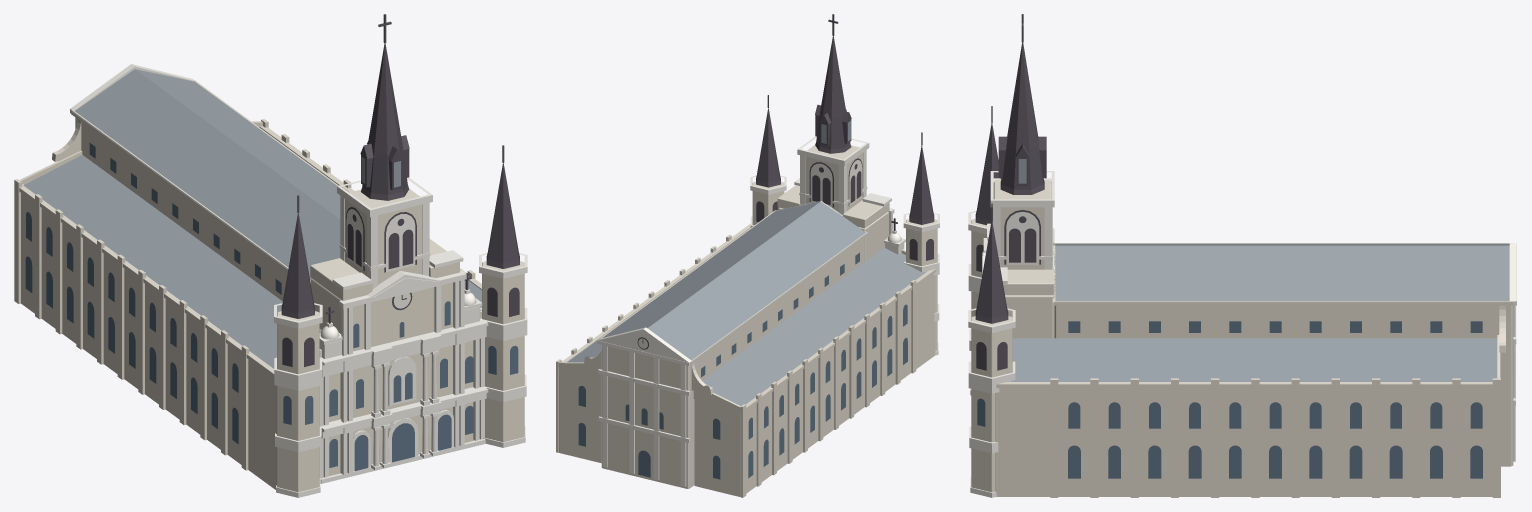
The model's file is nola-st-louis-cathedral.glb.
3 views of the same model, side by side, from view 1: azimuth 30°, elevation 25°; view 2: azimuth 150°, elevation 25°; view 3: azimuth 270°, elevation 25° (orthographic). The views are drawn at different scales.
Visible parts, largest first — view 1: Cathedral-Basilica of Saint Louis, King of France; view 2: Cathedral-Basilica of Saint Louis, King of France; view 3: Cathedral-Basilica of Saint Louis, King of France.
Boxes of the visible parts, x1=… form: Cathedral-Basilica of Saint Louis, King of France: x1=14, y1=14, x2=527, y2=497; Cathedral-Basilica of Saint Louis, King of France: x1=556, y1=14, x2=939, y2=497; Cathedral-Basilica of Saint Louis, King of France: x1=968, y1=14, x2=1516, y2=497.
Size of the model in its own units: 31.04 by 51 by 59.85.
